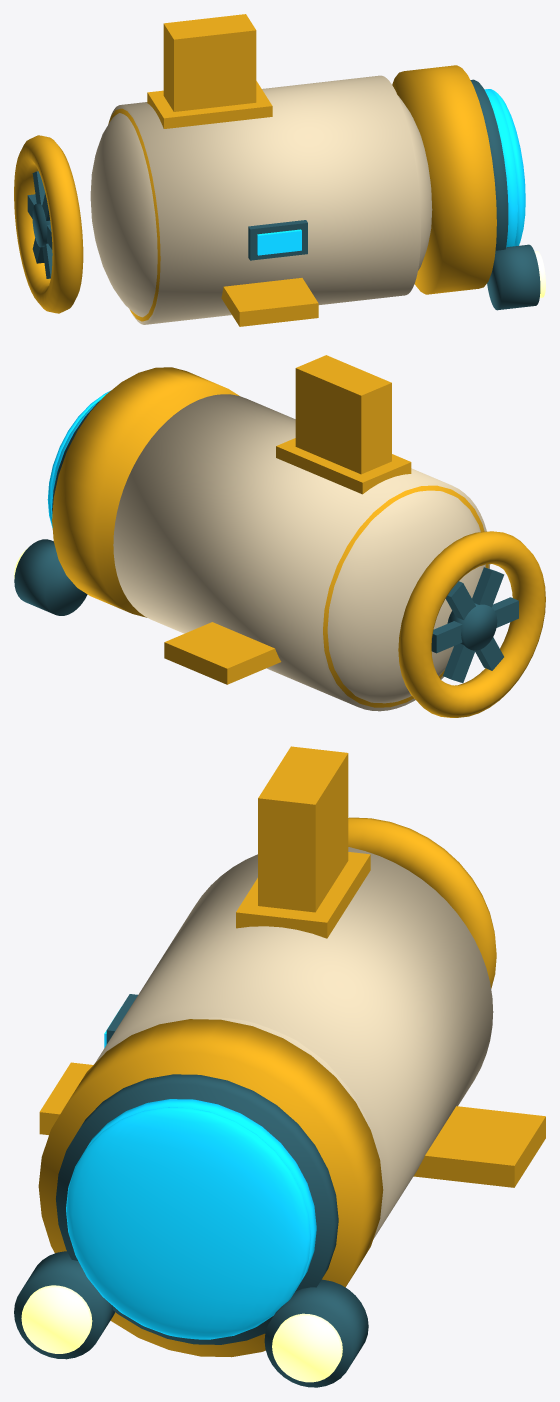
Rendered from submarine.glb.
3 views of the same model, one above another, from view 1: azimuth 30°, elevation 25°; view 2: azimuth 150°, elevation 25°; view 3: azimuth 270°, elevation 25° (orthographic). The views are drawn at different scales.
Visible parts, largest first — view 1: Submarine main hull, Nose rim, Rounded stern, Top fin, Open propeller ring, Side fin, Lamp housing, Top fin pedestal, Window frame, Rounded bow, Cyan window, Domed glass (+5 smaller); view 2: Submarine main hull, Rounded stern, Nose rim, Open propeller ring, Top fin, Side fin.001, Lamp housing.001, Top fin pedestal, Rear golden hull band, Propeller blade.001, Propeller hub, Propeller blade (+2 smaller); view 3: Submarine main hull, Domed glass, Nose rim, Top fin, Window frame, Side fin.001, Open propeller ring, Lamp housing.001, Top fin pedestal, Lamp lens.001, Lamp lens, Lamp housing (+3 smaller).
Boxes of the visible parts, x1,y1,x2,y2 form: Submarine main hull: (109, 75, 420, 324); Nose rim: (392, 65, 496, 294); Rounded stern: (90, 113, 157, 317); Top fin: (163, 14, 256, 111); Open propeller ring: (14, 135, 83, 313); Side fin: (221, 278, 318, 326); Lamp housing: (487, 244, 540, 310); Top fin pedestal: (147, 81, 272, 128); Window frame: (470, 79, 508, 250); Rounded bow: (398, 96, 432, 270); Cyan window: (484, 89, 517, 247); Domed glass: (488, 89, 525, 246); Submarine main hull: (113, 394, 490, 711); Rounded stern: (327, 490, 485, 703); Nose rim: (52, 367, 239, 617); Open propeller ring: (398, 531, 545, 717); Top fin: (295, 355, 391, 474); Side fin.001: (164, 622, 281, 684); Lamp housing.001: (14, 539, 87, 615); Top fin pedestal: (276, 438, 411, 494); Rear golden hull band: (323, 485, 488, 707); Propeller blade.001: (443, 567, 504, 682); Propeller hub: (447, 603, 497, 650); Propeller blade: (431, 597, 518, 653); Submarine main hull: (95, 847, 493, 1239); Domed glass: (66, 1107, 311, 1339); Nose rim: (38, 1019, 383, 1357); Top fin: (258, 746, 348, 912); Window frame: (56, 1074, 338, 1344); Side fin.001: (413, 1106, 545, 1187); Open propeller ring: (348, 817, 496, 988); Lamp housing.001: (264, 1279, 368, 1387); Top fin pedestal: (236, 852, 370, 938); Lamp lens.001: (272, 1313, 342, 1382); Lamp lens: (21, 1285, 92, 1353); Lamp housing: (14, 1251, 114, 1359).
Bounding box in the file's own units: 3.66 × 2.14 × 2.46.
